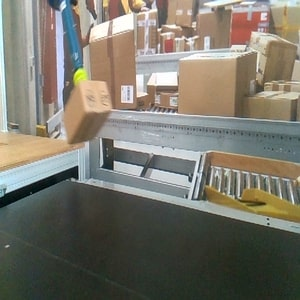box: (62, 79, 113, 144)
